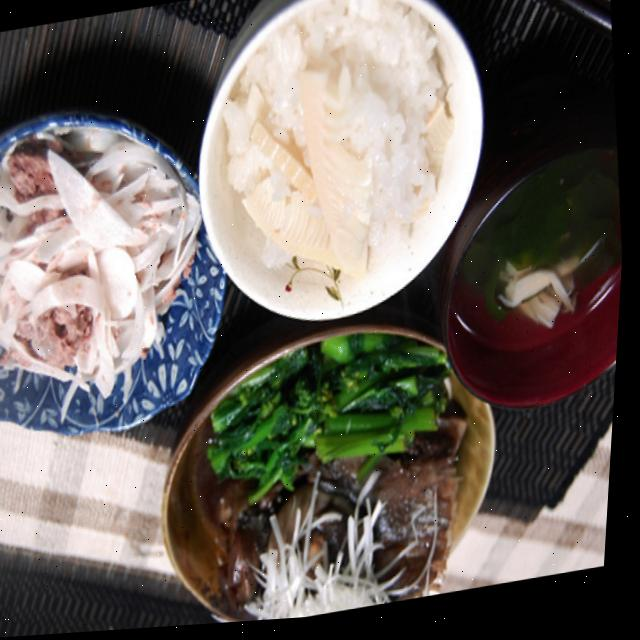米饭主食: (152, 0, 542, 365)
